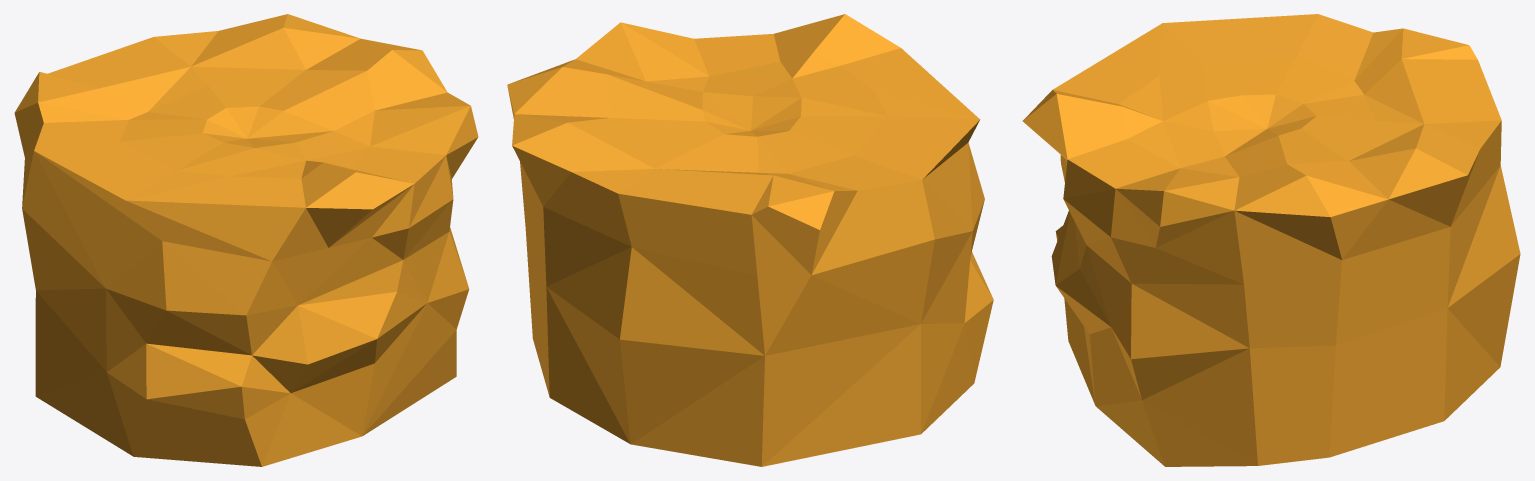
The model's file is SM_Corn_Slice_Grilled.fbx.
3 views of the same model, side by side, from view 1: azimuth 30°, elevation 25°; view 2: azimuth 150°, elevation 25°; view 3: azimuth 270°, elevation 25° (orthographic). The views are drawn at different scales.
Visible parts, largest first — view 1: corn-slice-grilled; view 2: corn-slice-grilled; view 3: corn-slice-grilled.
Boxes of the visible parts, x1,y1,x2,y2 form: corn-slice-grilled: (14, 14, 478, 466); corn-slice-grilled: (507, 14, 993, 466); corn-slice-grilled: (1022, 14, 1520, 466).
Bounding box in the file's own units: 0.0908 × 0.0606 × 0.0912.
